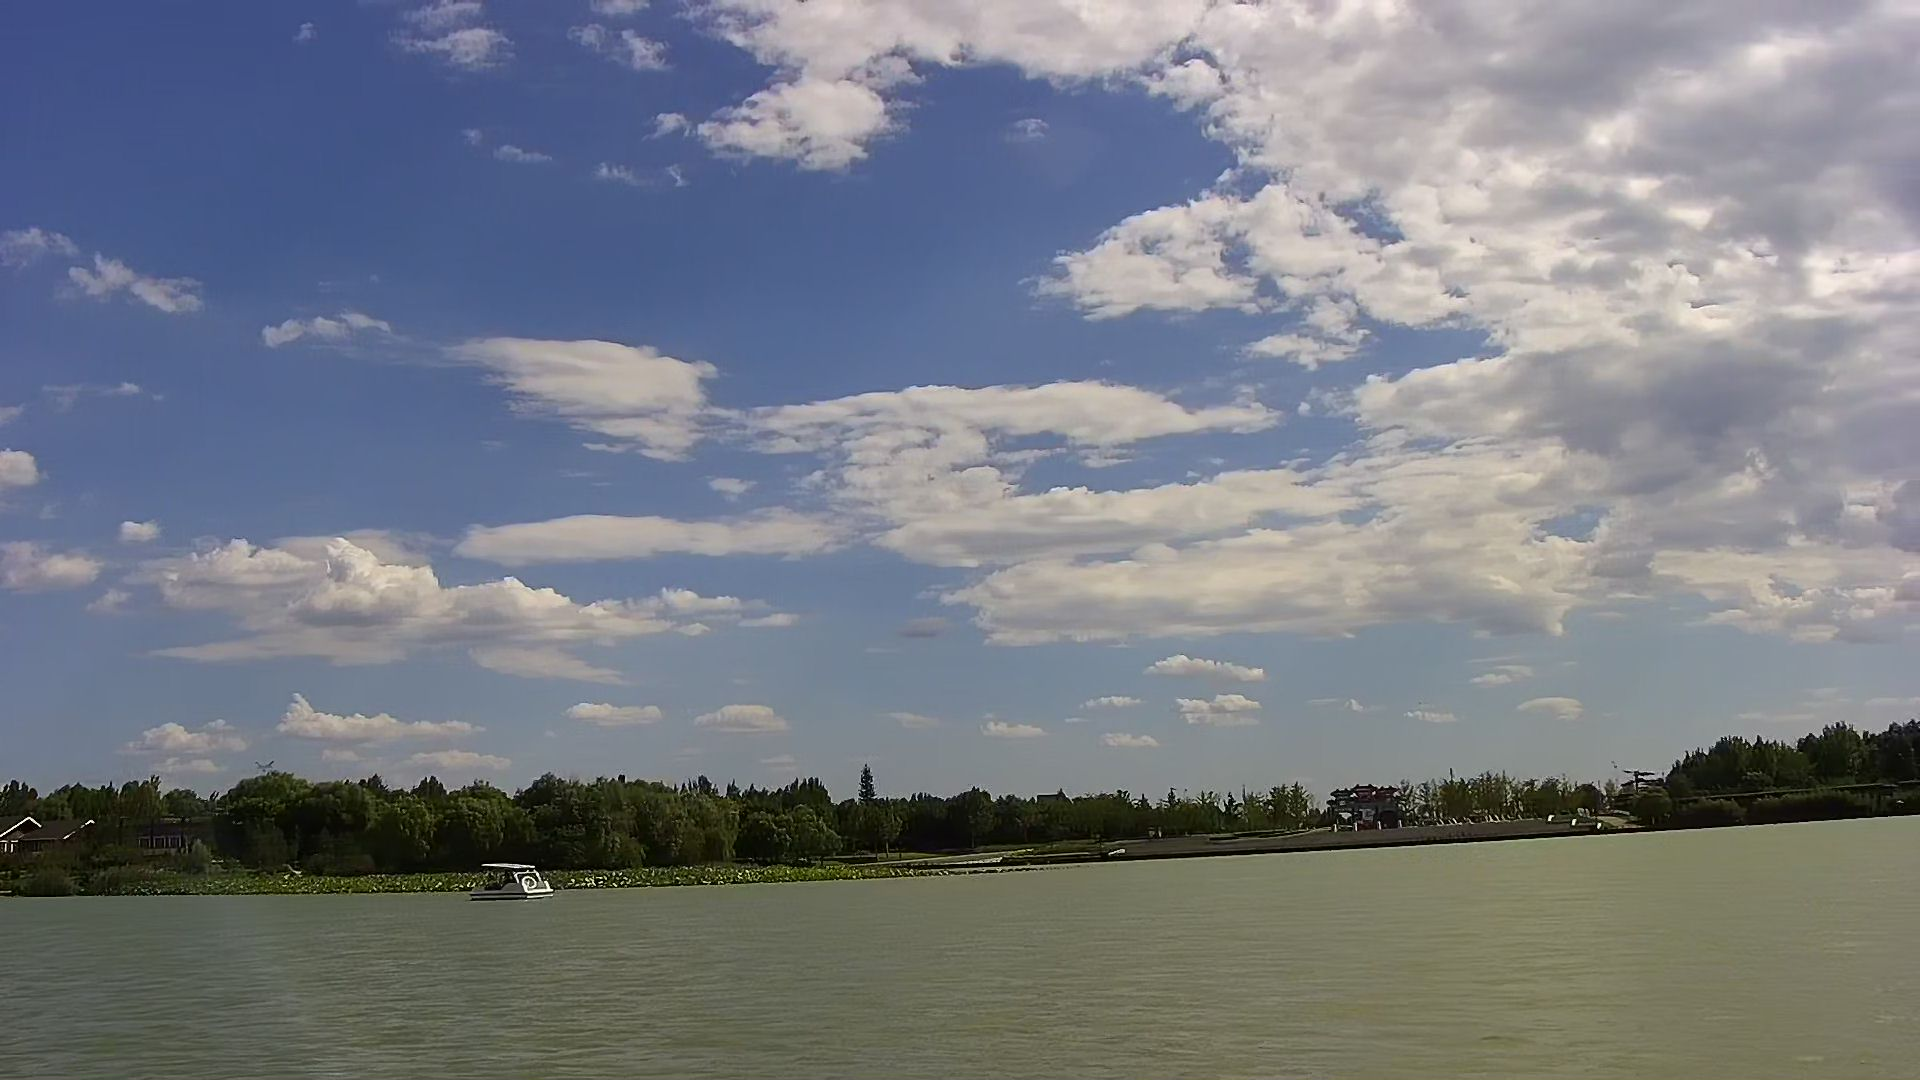boat: (464, 858, 553, 905)
